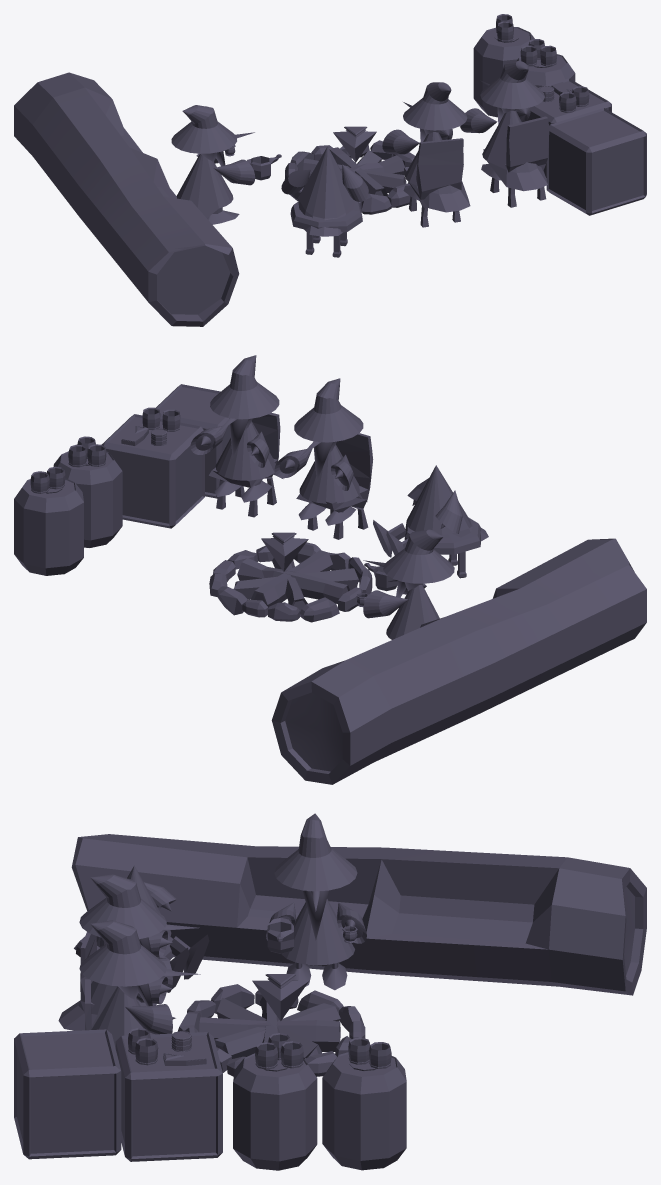
The model's file is Campfire.fbx.
3 renders of one model, top to bottom at view 1: azimuth 30°, elevation 25°; view 2: azimuth 150°, elevation 25°; view 3: azimuth 270°, elevation 25°, orthographic. The views are drawn at different scales.
Visible parts, largest first — view 1: pCylinder86, polySurface326, polySurface291, polySurface300, polySurface299, pCube83, polySurface302, polySurface307, polySurface325, polySurface303, polySurface301, polySurface314 (+5 smaller); view 2: pCylinder86, pCube83, polySurface314, polySurface300, polySurface299, polySurface325, polySurface291, polySurface319, polySurface326, polySurface302, polySurface307, polySurface303 (+3 smaller); view 3: pCylinder86, polySurface326, polySurface314, pCube83, polySurface291, polySurface325, polySurface319, polySurface300, polySurface299, polySurface297, polySurface298, polySurface309 (+8 smaller).
Part boxes in pixels (bbox=[...]): pCylinder86: bbox=[14, 72, 239, 326]; polySurface326: bbox=[546, 108, 646, 215]; polySurface291: bbox=[171, 105, 255, 224]; polySurface300: bbox=[460, 61, 547, 191]; polySurface299: bbox=[382, 82, 470, 212]; pCube83: bbox=[284, 140, 414, 214]; polySurface302: bbox=[404, 138, 463, 227]; polySurface307: bbox=[298, 146, 355, 236]; polySurface325: bbox=[473, 27, 534, 117]; polySurface303: bbox=[483, 116, 549, 207]; polySurface301: bbox=[290, 201, 362, 257]; polySurface314: bbox=[527, 78, 611, 179]; pCylinder86: bbox=[271, 538, 646, 784]; pCube83: bbox=[209, 542, 372, 622]; polySurface314: bbox=[102, 414, 204, 528]; polySurface300: bbox=[190, 355, 283, 502]; polySurface299: bbox=[274, 378, 367, 525]; polySurface325: bbox=[14, 478, 83, 575]; polySurface291: bbox=[363, 529, 454, 639]; polySurface319: bbox=[53, 451, 122, 547]; polySurface326: bbox=[156, 384, 230, 498]; polySurface302: bbox=[296, 433, 373, 539]; polySurface307: bbox=[406, 465, 488, 541]; polySurface303: bbox=[209, 412, 280, 517]; pCylinder86: bbox=[71, 834, 646, 995]; polySurface326: bbox=[14, 1029, 121, 1159]; polySurface314: bbox=[115, 1032, 222, 1161]; pCube83: bbox=[178, 984, 365, 1076]; polySurface291: bbox=[266, 813, 366, 990]; polySurface325: bbox=[322, 1052, 406, 1170]; polySurface319: bbox=[233, 1053, 317, 1170]; polySurface300: bbox=[79, 920, 200, 1047]; polySurface299: bbox=[58, 874, 199, 1030]; polySurface297: bbox=[252, 974, 309, 1020]; polySurface298: bbox=[267, 917, 293, 953]; polySurface309: bbox=[170, 934, 209, 979].
Size of the model in its own units: 1551 by 553 by 1347.
